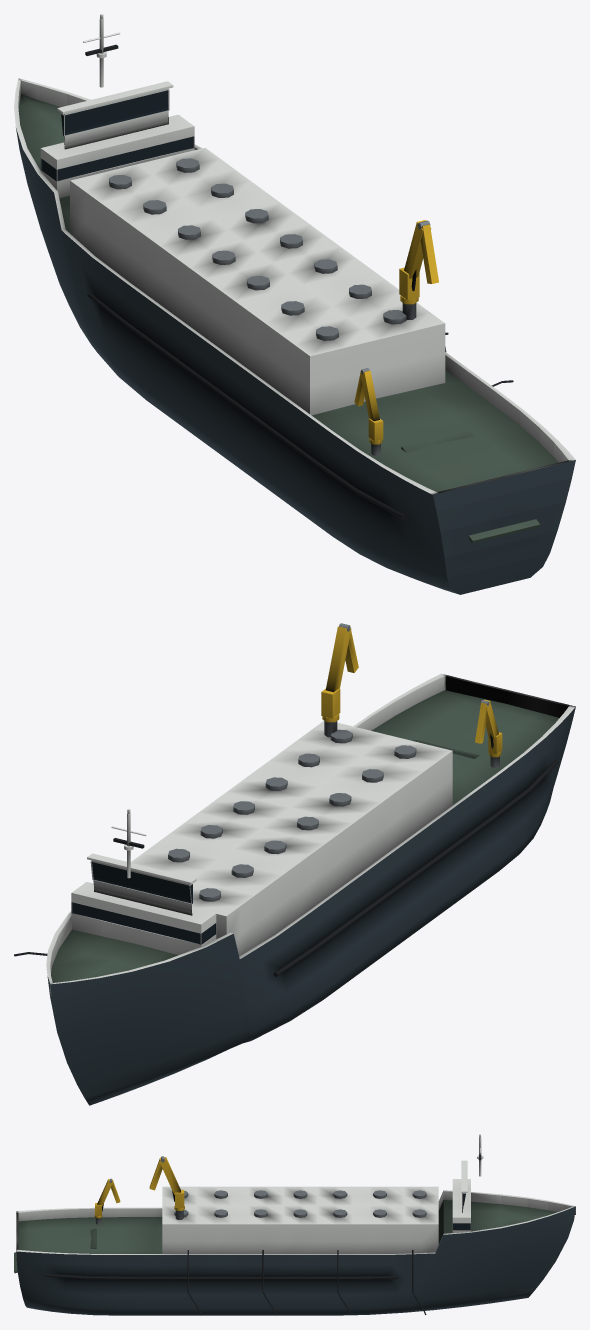
Rendered from feed_barge_large_LOD1.glb.
The picture shows the model from 3 angles, top to bottom: view 1: azimuth 30°, elevation 25°; view 2: azimuth 150°, elevation 25°; view 3: azimuth 270°, elevation 25°; orthographic projection. The views are drawn at different scales.
Visible parts, largest first — view 1: Superstructure, Hull, Deck, Machinery, Windows, Crane, Rubber; view 2: Hull, Superstructure, Deck, Machinery, Windows, Crane, Rubber; view 3: Hull, Superstructure, Deck, Rubber, Machinery, Crane.
Part boxes in pixels (bbox=[...]): Superstructure: bbox=[14, 14, 575, 507]; Hull: bbox=[16, 128, 575, 594]; Deck: bbox=[18, 94, 558, 543]; Machinery: bbox=[109, 158, 430, 455]; Windows: bbox=[41, 90, 193, 180]; Crane: bbox=[354, 220, 438, 444]; Rubber: bbox=[85, 44, 513, 519]; Hull: bbox=[47, 690, 575, 1105]; Superstructure: bbox=[46, 673, 575, 998]; Deck: bbox=[51, 690, 559, 982]; Machinery: bbox=[168, 623, 499, 901]; Windows: bbox=[72, 862, 215, 943]; Crane: bbox=[321, 625, 502, 757]; Rubber: bbox=[14, 733, 558, 976]; Hull: bbox=[16, 1206, 575, 1315]; Superstructure: bbox=[16, 1134, 575, 1257]; Deck: bbox=[14, 1200, 575, 1273]; Rubber: bbox=[44, 1154, 481, 1314]; Machinery: bbox=[95, 1156, 426, 1224]; Crane: bbox=[94, 1157, 184, 1218].
Size of the model in its own units: 19.84 by 20.86 by 65.09.
